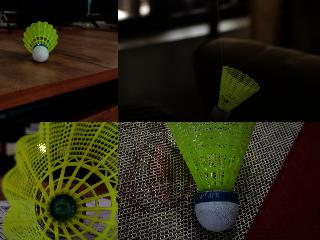shuttlecock: (1, 122, 117, 239), (164, 122, 261, 233), (210, 66, 260, 121), (22, 20, 58, 62)
